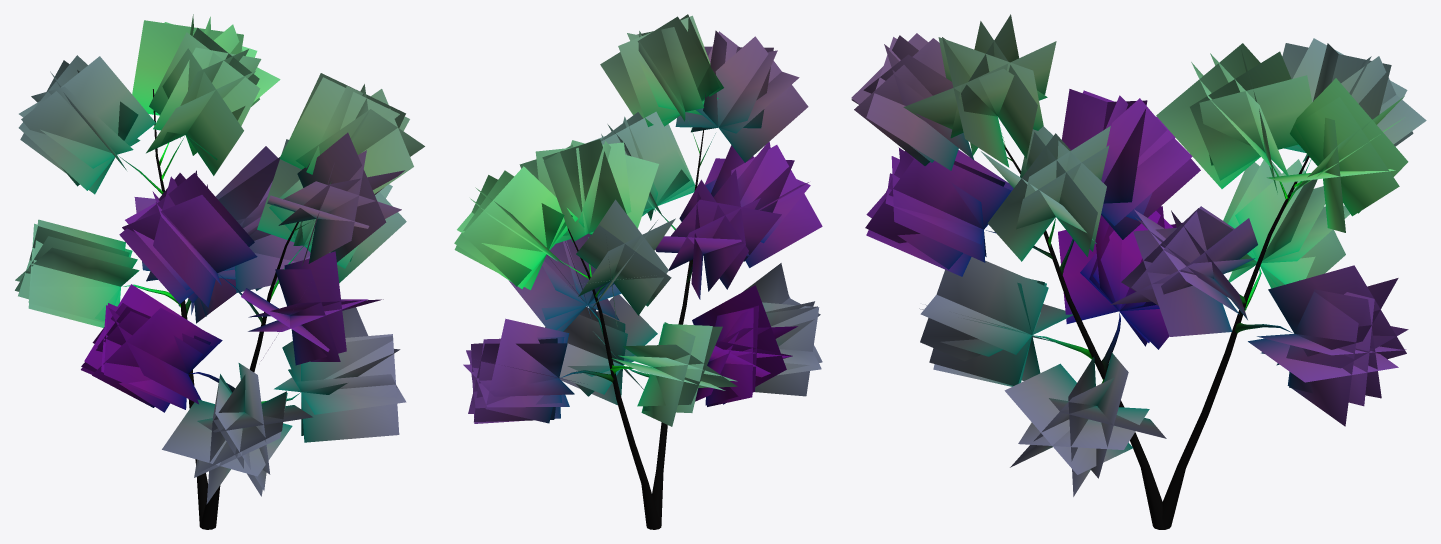
The model's file is URP_P6_Tree_5_LOD_2.fbx.
3 renders of one model, left to right at view 1: azimuth 30°, elevation 25°; view 2: azimuth 150°, elevation 25°; view 3: azimuth 270°, elevation 25°, orthographic. The views are drawn at different scales.
Parts seen in each view (by area): view 1: Tree_5_LOD_2; view 2: Tree_5_LOD_2; view 3: Tree_5_LOD_2.
Boxes of the visible parts, x1=… form: Tree_5_LOD_2: x1=15, y1=14, x2=424, y2=529; Tree_5_LOD_2: x1=454, y1=14, x2=822, y2=529; Tree_5_LOD_2: x1=851, y1=14, x2=1426, y2=529.
Size of the model in its own units: 528 by 847 by 822.
